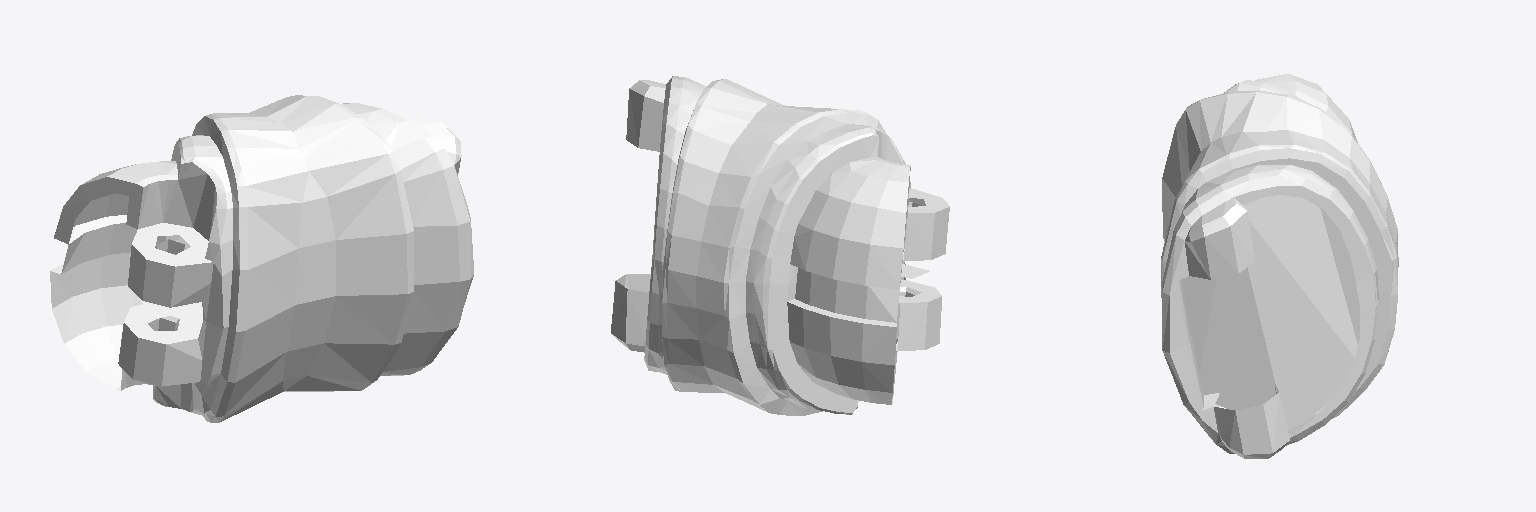
The picture shows the model from 3 angles: view 1: azimuth 30°, elevation 25°; view 2: azimuth 150°, elevation 25°; view 3: azimuth 270°, elevation 25°; orthographic projection.
Visible parts, largest first — view 1: LFinger11_LPhalax_1; view 2: LFinger11_LPhalax_1; view 3: LFinger11_LPhalax_1.
Boxes of the visible parts, box(x1,y1,x2,y2) form: LFinger11_LPhalax_1: box(50, 95, 473, 422); LFinger11_LPhalax_1: box(611, 76, 949, 415); LFinger11_LPhalax_1: box(1161, 74, 1398, 458).
Bounding box in the file's own units: 0.1938 × 0.16 × 0.1192.
Materials: 1 (1 with a texture image).